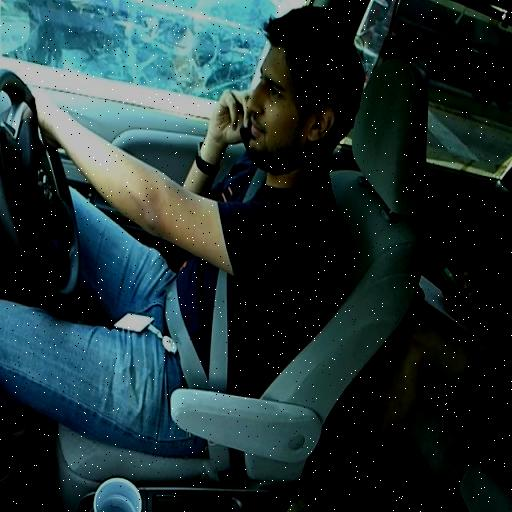talking_phone: (10, 93, 357, 376)
